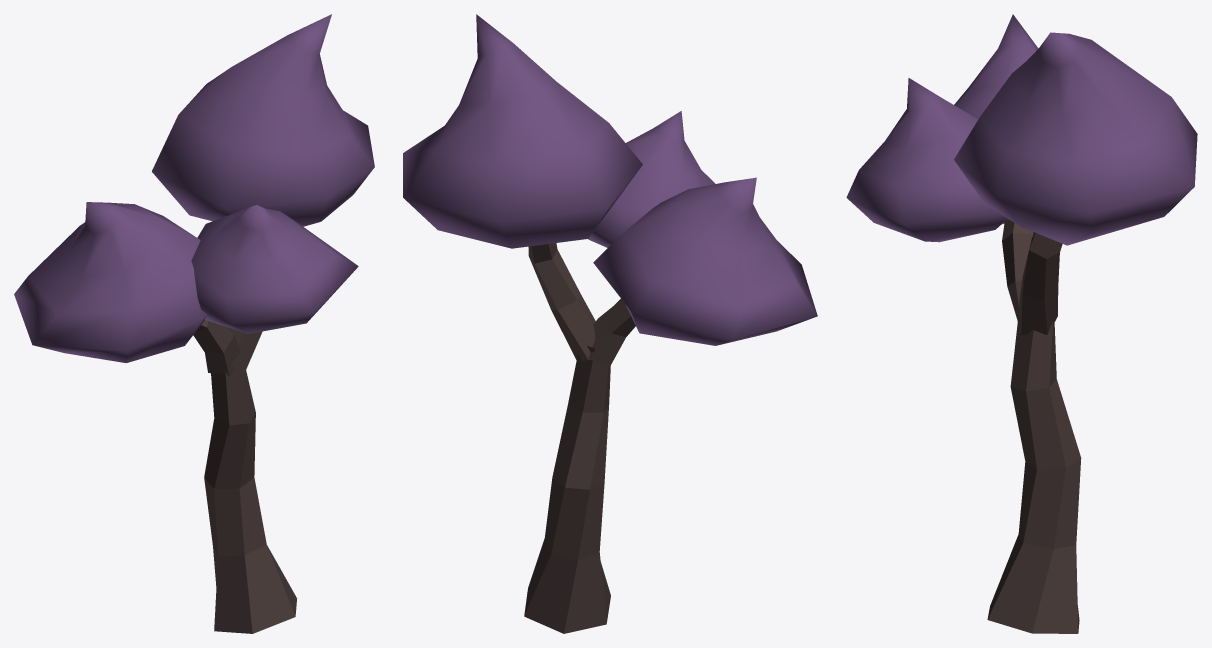
Rendered from arvore_3.glb.
3 renders of one model, left to right at view 1: azimuth 30°, elevation 25°; view 2: azimuth 150°, elevation 25°; view 3: azimuth 270°, elevation 25°, orthographic. The views are drawn at different scales.
Visible parts, largest first — view 1: arvore_3; view 2: arvore_3; view 3: arvore_3.
Part boxes in pixels (x1,y1,x2,y2): arvore_3: (14,14,374,633); arvore_3: (403,14,817,633); arvore_3: (846,14,1197,633).
Bounding box in the file's own units: 1.44 × 2.15 × 1.06.
